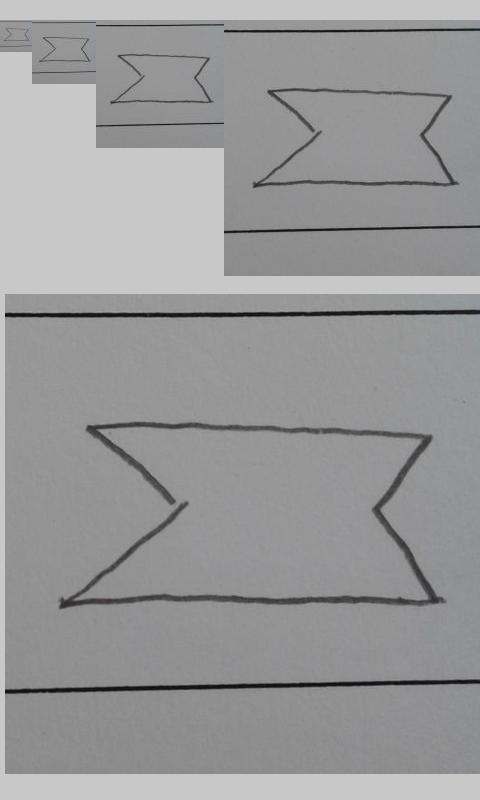edit_text: (58, 419, 442, 609), (253, 87, 458, 187), (109, 53, 214, 105), (40, 36, 91, 63), (3, 27, 30, 42)
